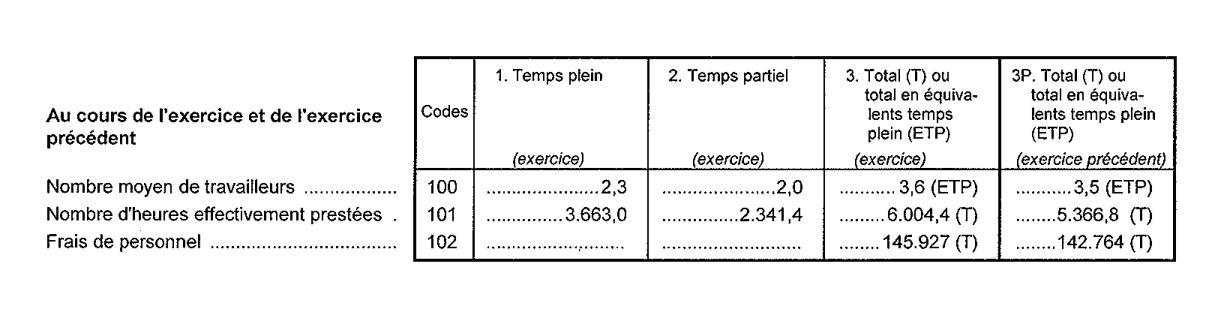table: (35, 54, 1175, 259)
table column: (36, 101, 405, 259), (824, 55, 999, 260), (650, 54, 823, 260), (1002, 57, 1175, 259), (478, 54, 647, 260), (413, 57, 472, 260)
table column header: (664, 66, 791, 84), (844, 65, 952, 86), (493, 66, 604, 86), (1013, 65, 1125, 84), (420, 103, 470, 120)
table row: (41, 204, 399, 250), (46, 175, 397, 193)
